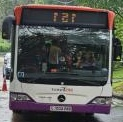bus: (49, 10, 78, 25)
